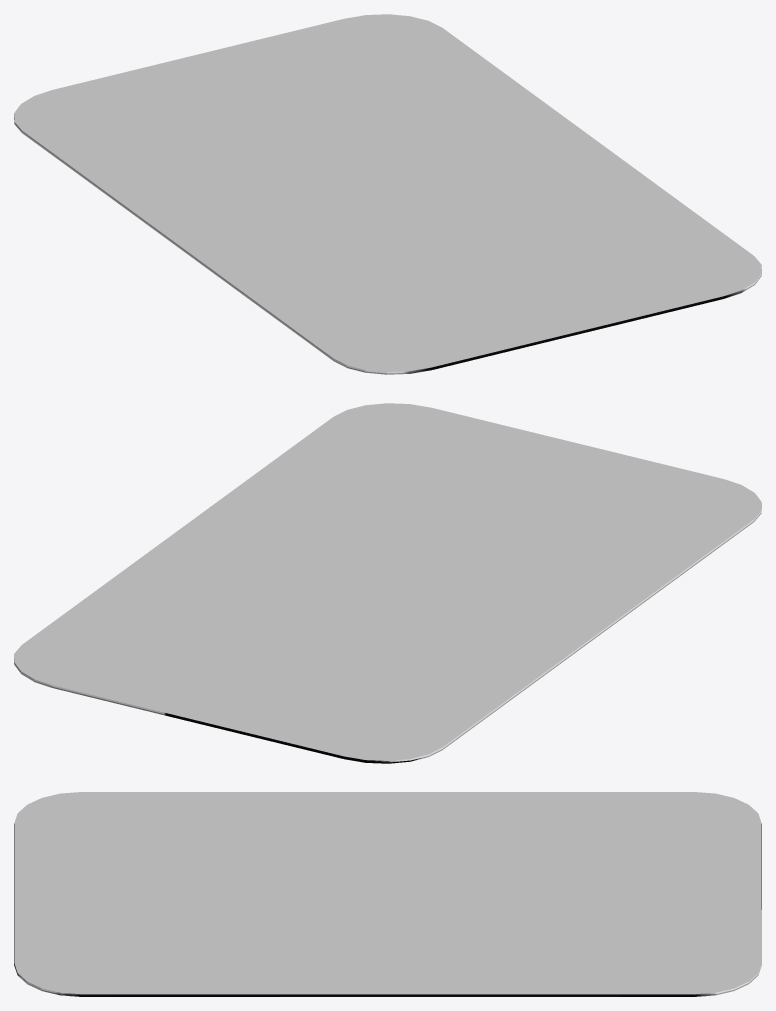
The model's file is Spielkarte.fbx.
3 renders of one model, top to bottom at view 1: azimuth 30°, elevation 25°; view 2: azimuth 150°, elevation 25°; view 3: azimuth 270°, elevation 25°, orthographic.
Parts seen in each view (by area): view 1: Cube; view 2: Cube; view 3: Cube.
Part boxes in pixels (x1,y1,x2,y2): Cube: (14,14,761,374); Cube: (14,403,761,763); Cube: (14,792,761,996).
Bounding box in the file's own units: 47.6 × 0.3 × 74.29.
